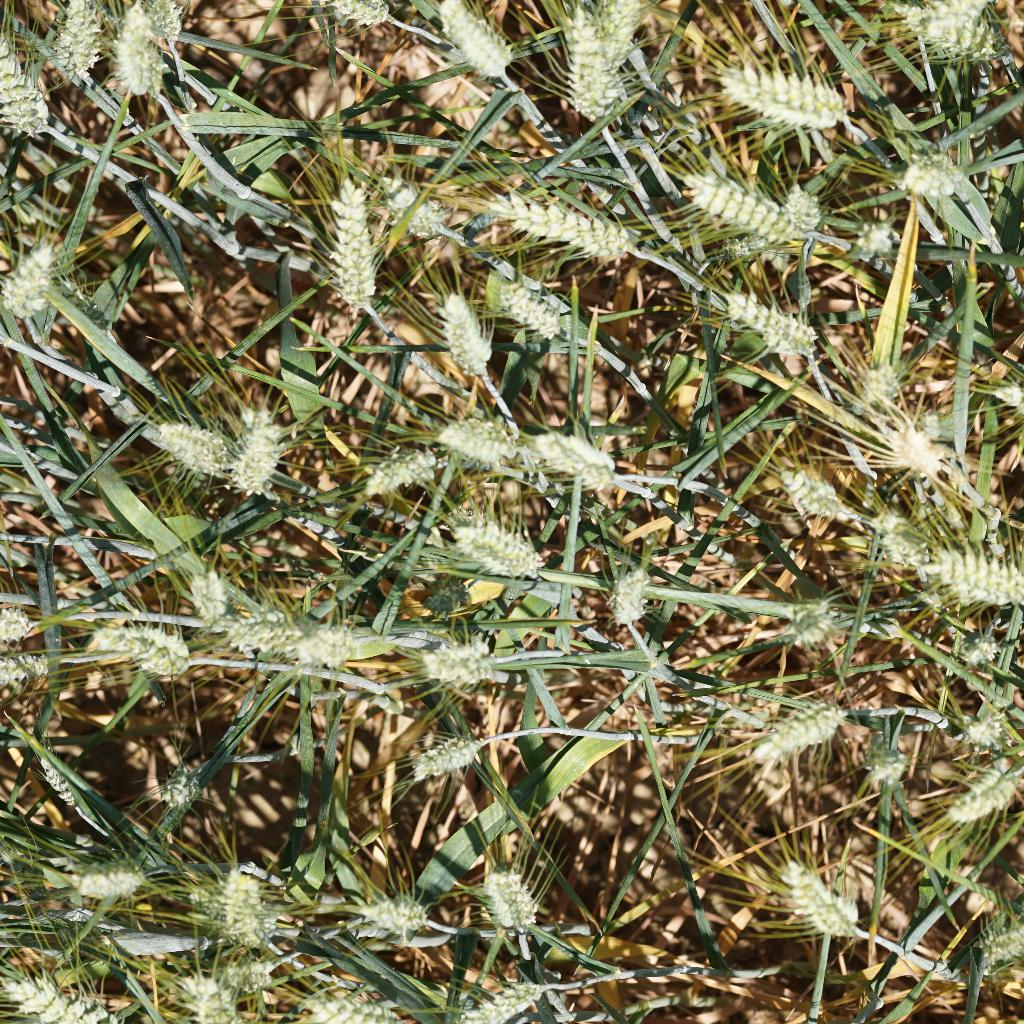0-0: (716, 44, 869, 146), (486, 180, 647, 265), (313, 168, 385, 321), (768, 841, 870, 942), (0, 960, 156, 1024), (683, 169, 802, 251), (550, 0, 623, 131), (221, 608, 363, 675), (746, 694, 852, 778), (885, 0, 1005, 73), (443, 514, 552, 593), (170, 875, 279, 954), (101, 0, 183, 100), (713, 287, 825, 359), (408, 630, 527, 697), (875, 414, 968, 499), (918, 539, 1024, 613), (423, 0, 514, 83), (85, 615, 194, 684), (758, 462, 863, 533), (485, 271, 579, 347), (286, 600, 374, 678), (527, 425, 624, 493), (230, 393, 288, 505), (434, 971, 555, 1024), (0, 241, 71, 331), (142, 404, 231, 475), (475, 864, 560, 937), (430, 290, 496, 384), (0, 42, 62, 142), (376, 174, 456, 250), (941, 762, 1024, 834), (833, 351, 920, 417), (421, 417, 526, 471), (212, 863, 280, 946), (410, 716, 492, 784), (350, 436, 437, 500), (292, 980, 417, 1024), (355, 888, 444, 944), (772, 586, 838, 658), (52, 0, 105, 86), (589, 564, 654, 632), (29, 728, 82, 811), (171, 968, 247, 1024), (296, 0, 404, 38), (899, 147, 968, 203), (123, 0, 188, 59), (174, 564, 239, 621), (64, 855, 144, 900), (150, 755, 213, 812), (601, 0, 656, 63), (211, 950, 283, 997), (975, 903, 1024, 971), (869, 508, 919, 571), (961, 713, 1017, 765), (862, 740, 908, 799), (417, 574, 475, 619), (776, 178, 830, 224), (0, 609, 62, 647), (711, 228, 780, 261), (849, 210, 897, 257), (0, 658, 56, 695), (959, 630, 1005, 675)
